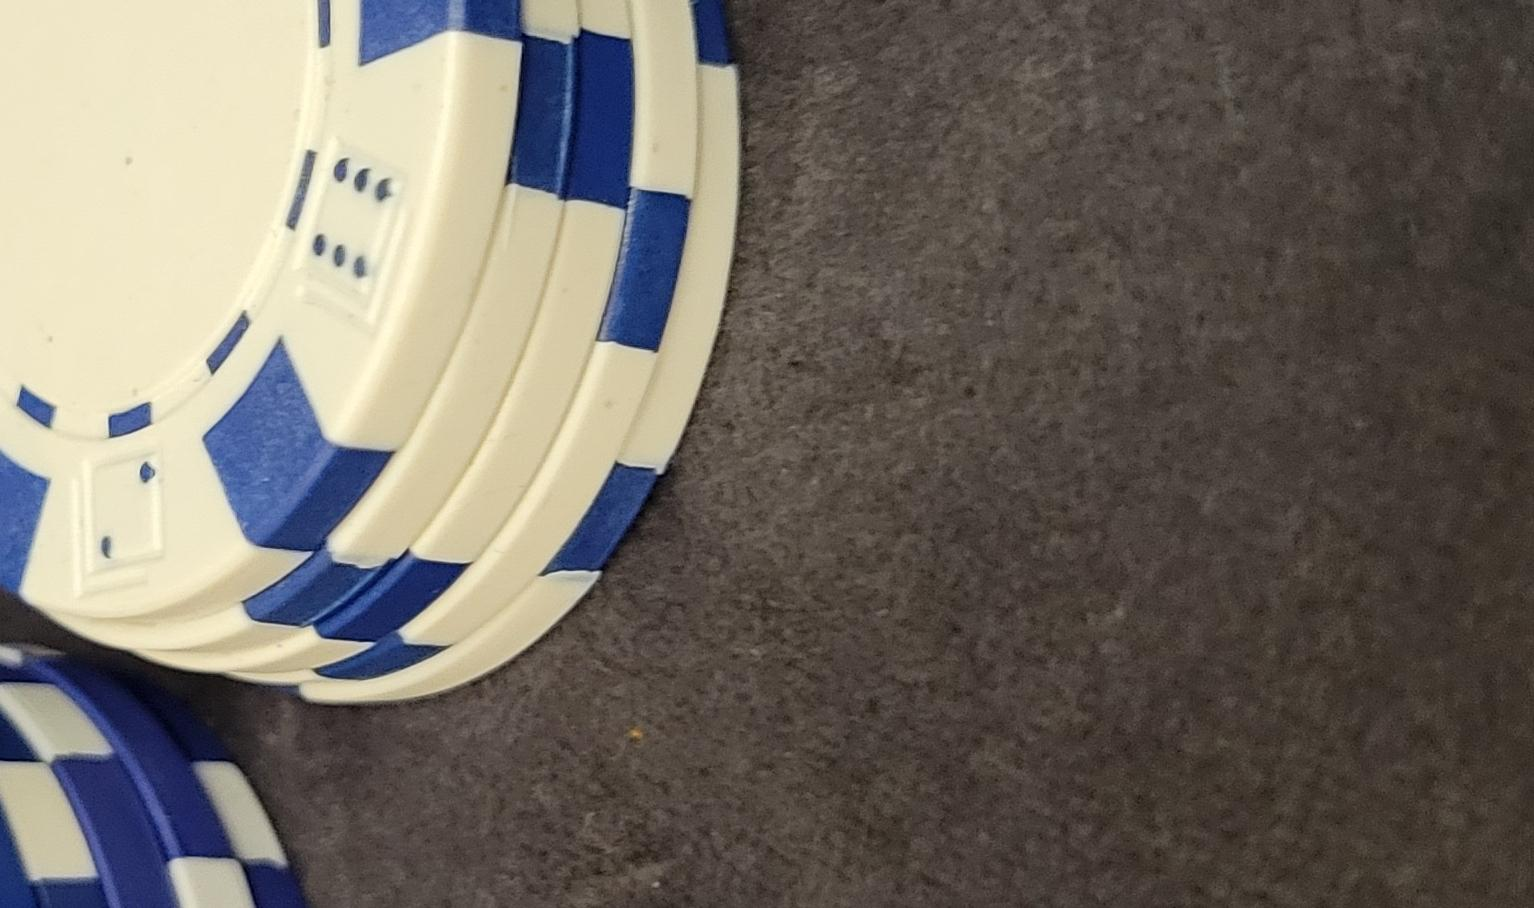Chip: (1, 349, 720, 908)
